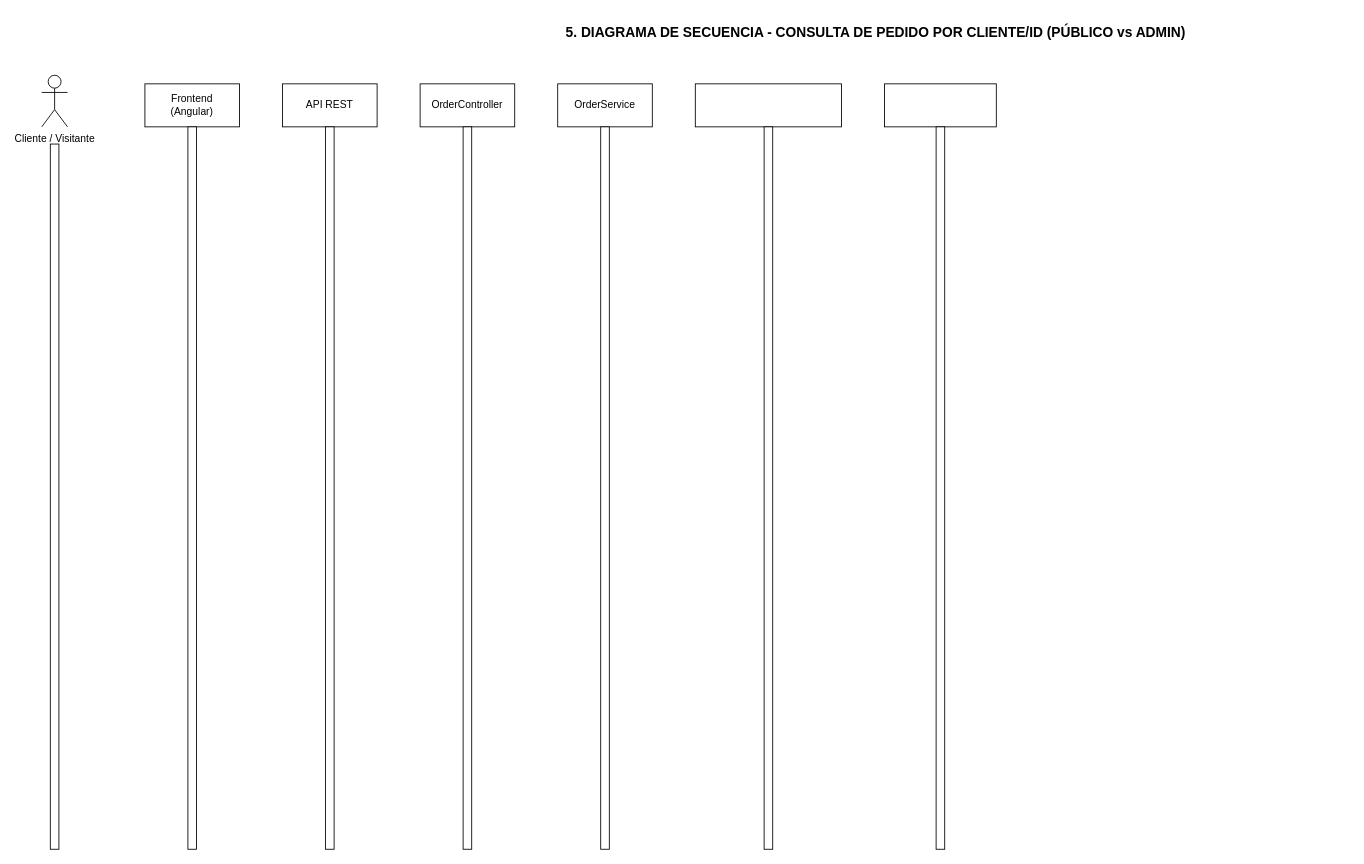
Some shapes in this 1364 by 864 pixel diagram are drawn without their labels. Here are the shapes that lost their labels. From the top down, the centre of each, then its label:
At [768,105]: "optionalAuthenticateToken".
At [940,105]: "Prisma / PostgreSQL".
